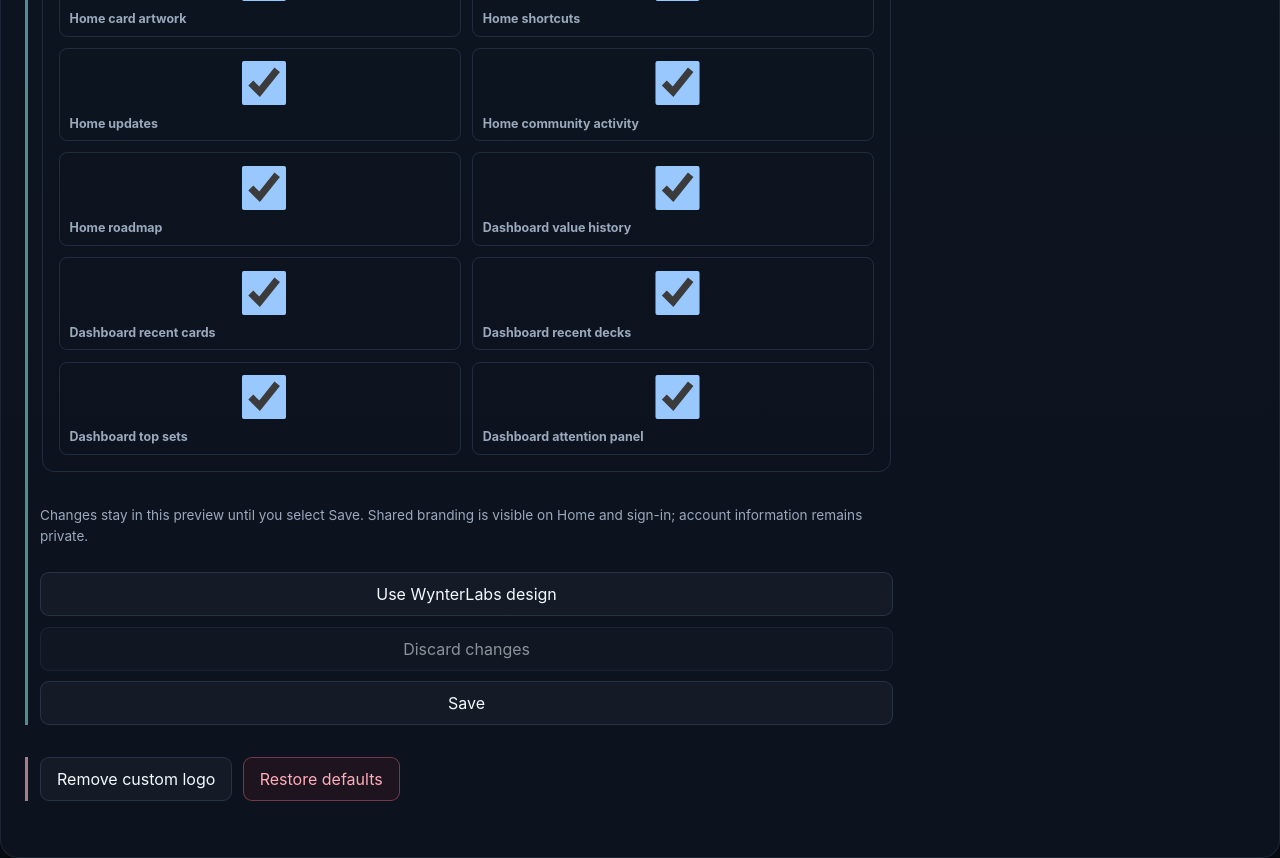
Test: reports a successful logo removal from its mutation response without relying on a refresh
The width and height of the screenshot is (1280, 858).
(page scrolled)
Click the button "Remove custom logo".
click(136, 779)  # box 40,757 -> 232,801
(page scrolled)
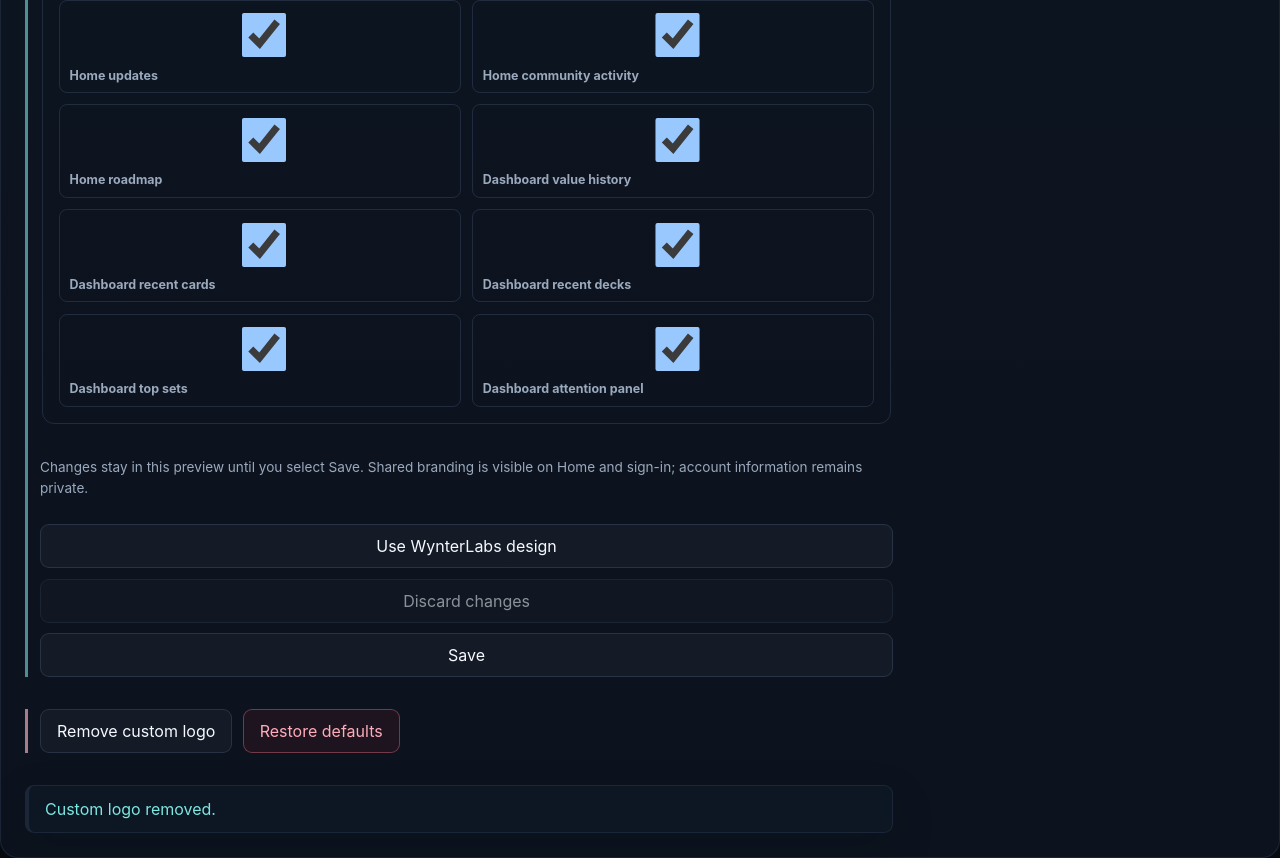
expect the text "Custom logo removed." is shown: met, box 25,785 -> 893,833
